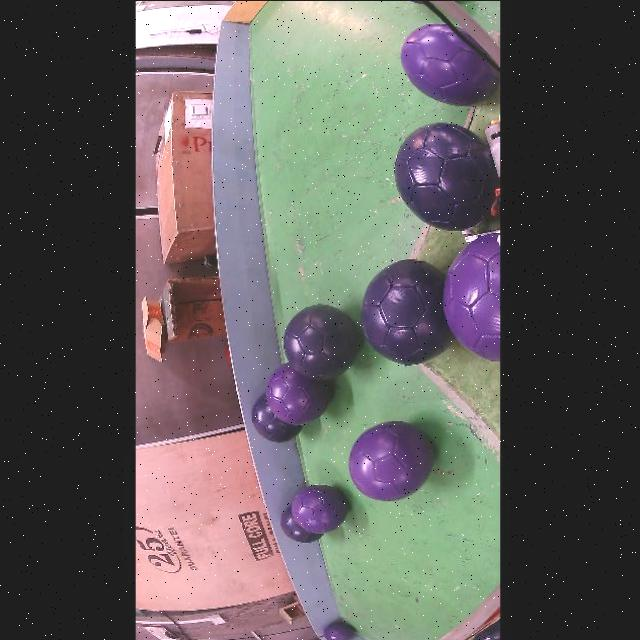B: (394, 122, 498, 230), (361, 259, 453, 364), (283, 303, 361, 379), (252, 393, 302, 441), (280, 504, 323, 542)
P: (400, 23, 499, 106), (443, 231, 500, 360), (348, 421, 433, 501), (266, 363, 332, 425), (291, 484, 348, 533), (323, 621, 355, 640)
